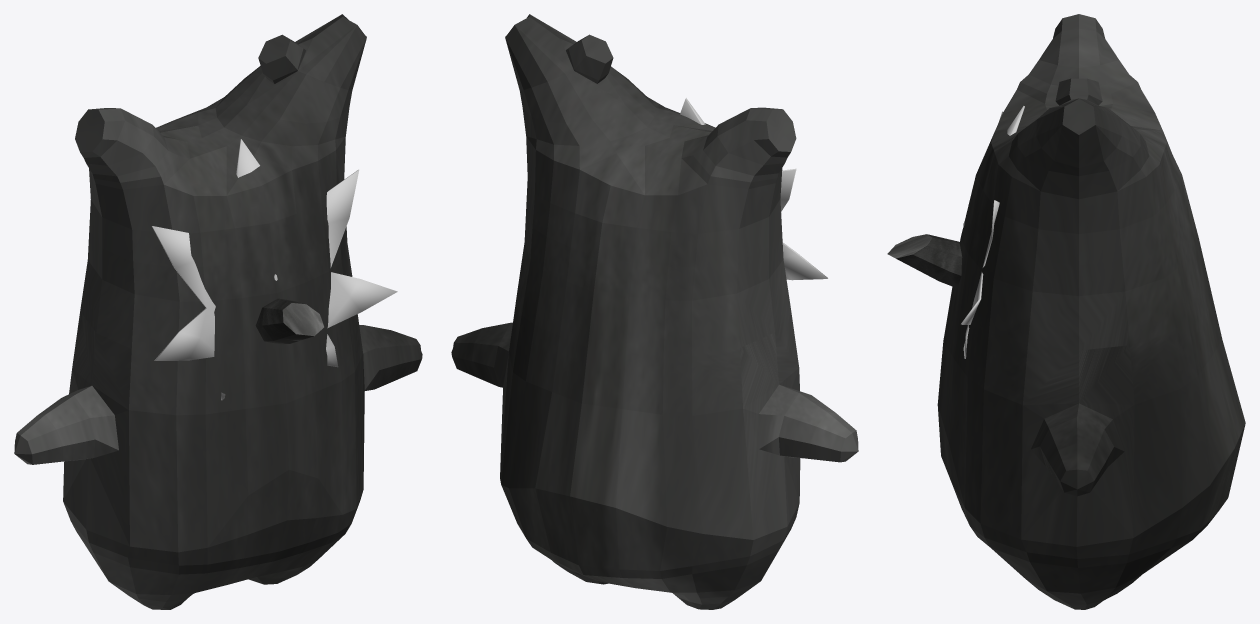
Rendered from frame_0037.obj.
3 renders of one model, left to right at view 1: azimuth 30°, elevation 25°; view 2: azimuth 150°, elevation 25°; view 3: azimuth 270°, elevation 25°, orthographic.
Parts seen in each view (by area): view 1: korok, leaf.003_柱体.013, nose.003_柱体.011; view 2: korok, leaf.003_柱体.013; view 3: korok, nose.003_柱体.011, leaf.003_柱体.013.
Part boxes in pixels (bbox=[...]): korok: bbox=[14, 14, 422, 609]; leaf.003_柱体.013: bbox=[151, 139, 397, 400]; nose.003_柱体.011: bbox=[255, 298, 323, 344]; korok: bbox=[451, 14, 858, 609]; leaf.003_柱体.013: bbox=[680, 98, 827, 280]; korok: bbox=[937, 14, 1245, 609]; nose.003_柱体.011: bbox=[887, 234, 962, 287]; leaf.003_柱体.013: bbox=[961, 106, 1024, 358].
Size of the model in its own units: 1.77 by 2.27 by 1.36.
